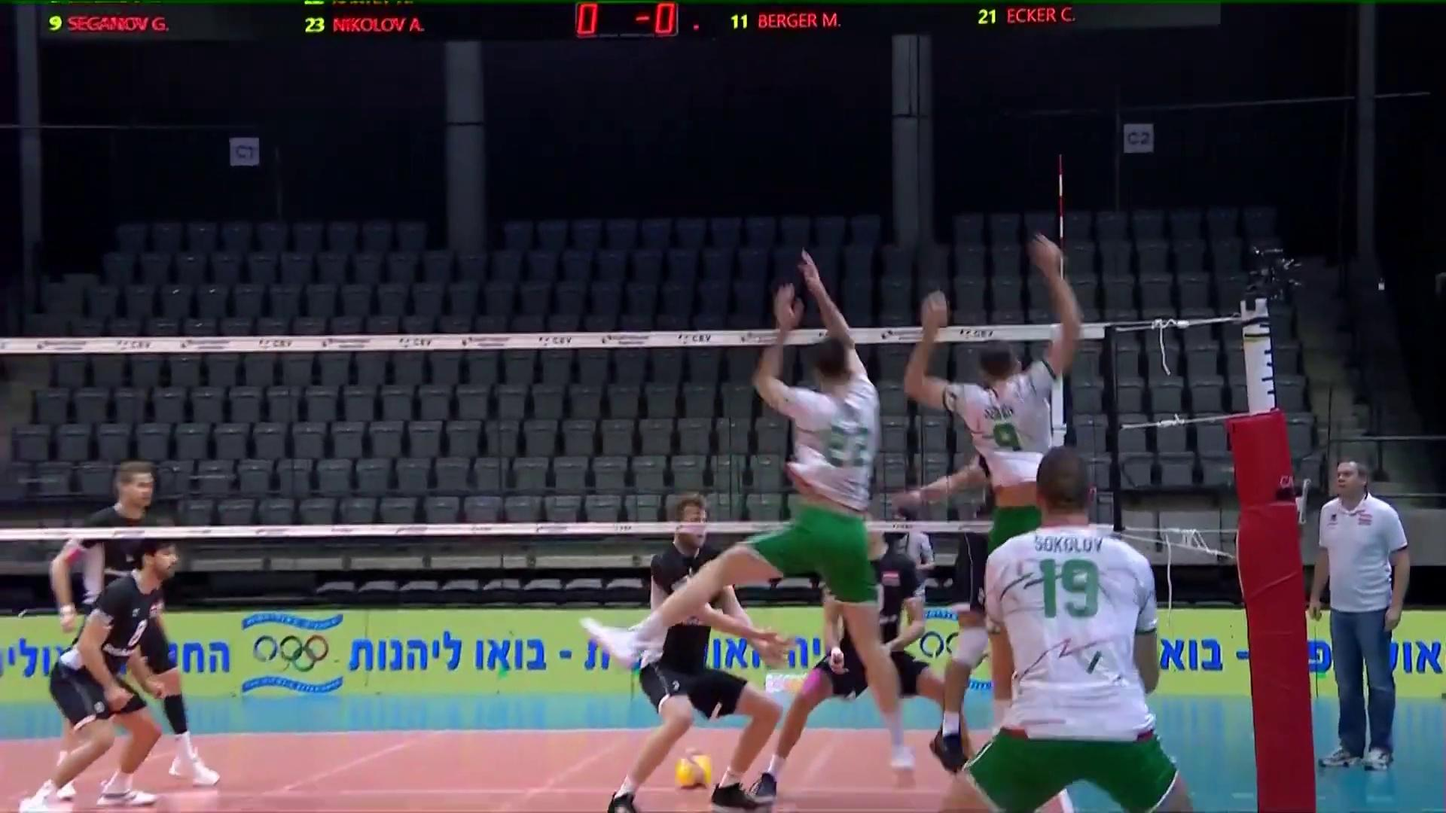ball: (668, 749, 717, 795)
